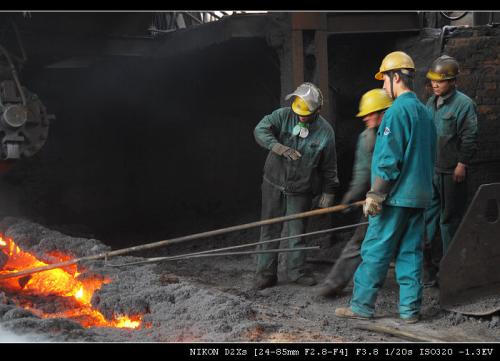boots: (334, 306, 371, 319), (254, 274, 276, 288), (292, 273, 317, 285), (399, 314, 419, 324)
gloves: (270, 143, 302, 161), (362, 192, 385, 216), (311, 193, 335, 209), (339, 191, 355, 215)
hard-hat: (285, 81, 323, 115), (374, 50, 416, 80), (355, 88, 394, 118), (426, 55, 460, 81)
person: (334, 51, 439, 324), (252, 81, 339, 289), (314, 87, 394, 299), (422, 54, 480, 286)
ppe-suit: (346, 90, 439, 320), (254, 107, 339, 268), (423, 88, 479, 257)
